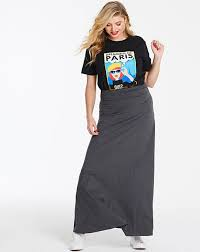C_T-shirt: (78, 33, 155, 88)
C_skirt: (47, 83, 164, 247)
